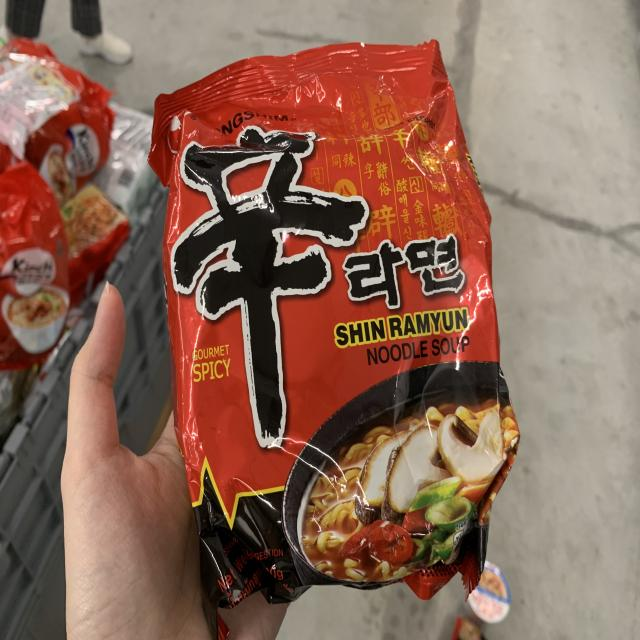object_name: (172, 72, 492, 600)
